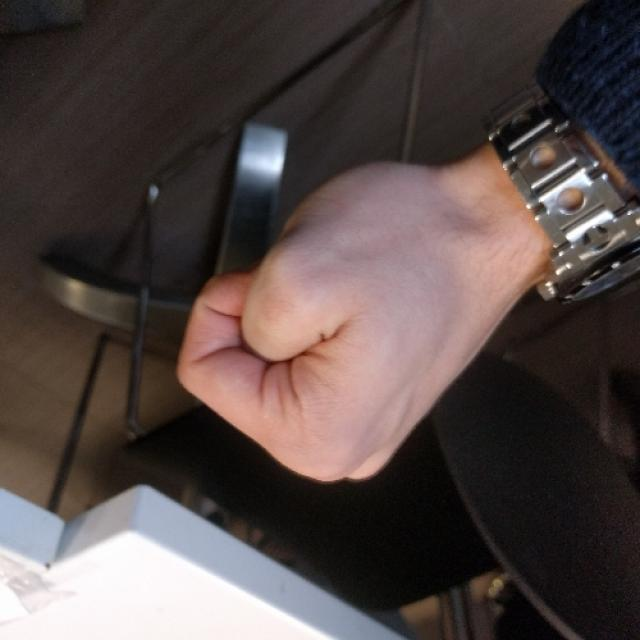fist: (170, 160, 488, 486)
